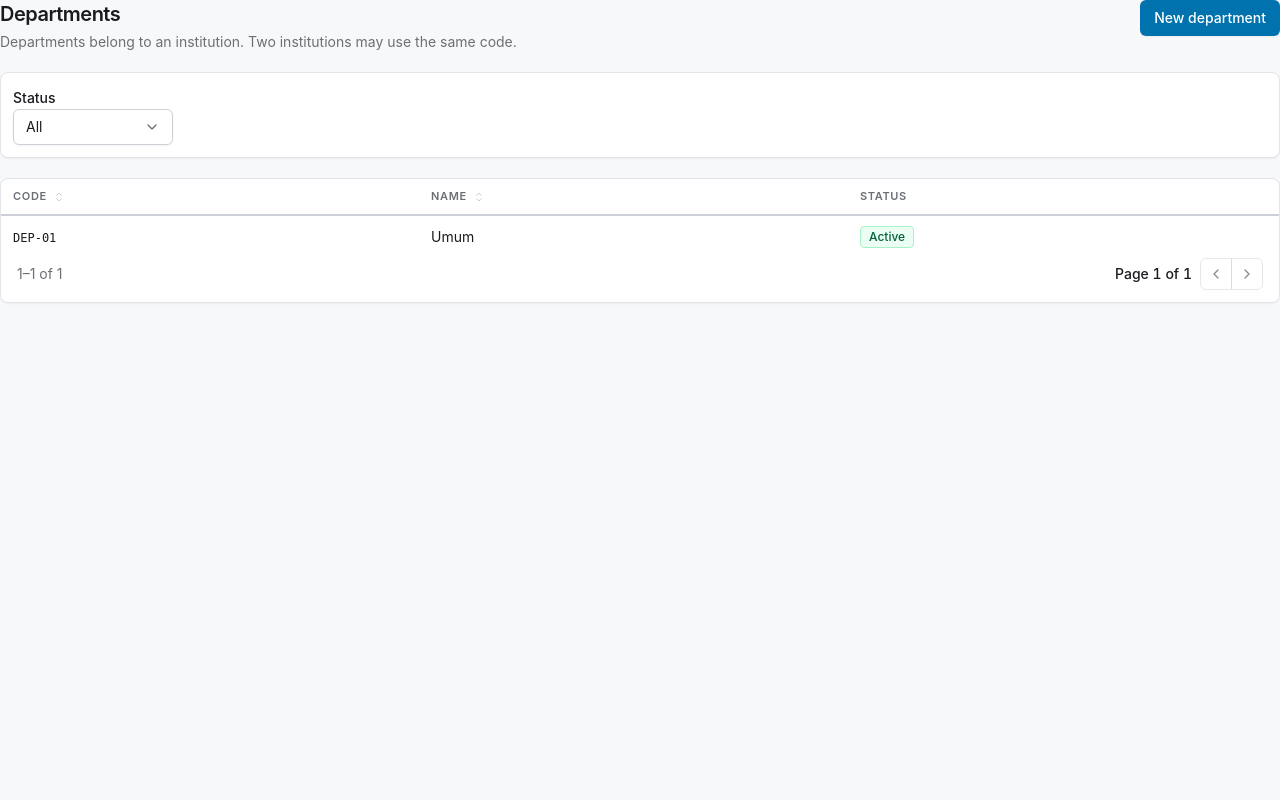
DepartmentsPage › choosing the institution › refuses to submit when a system-wide caller has not chosen one
Expected: the text "Umum" is shown, [419, 215, 848, 258]
Click the button "New department" at point(1210, 18), box [1140, 0, 1279, 36]
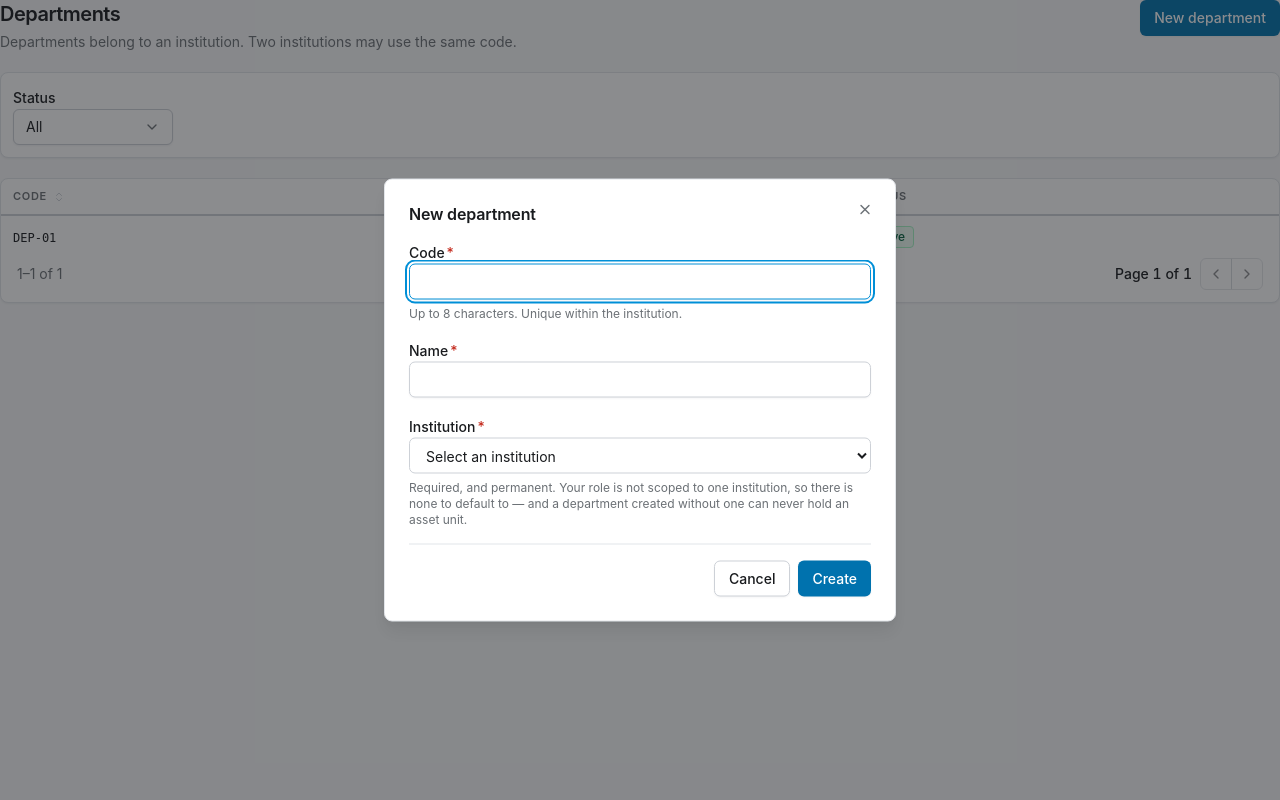
Type "DEP-03" into the field labelled "Code*" at point(640, 282), box [409, 264, 871, 300]
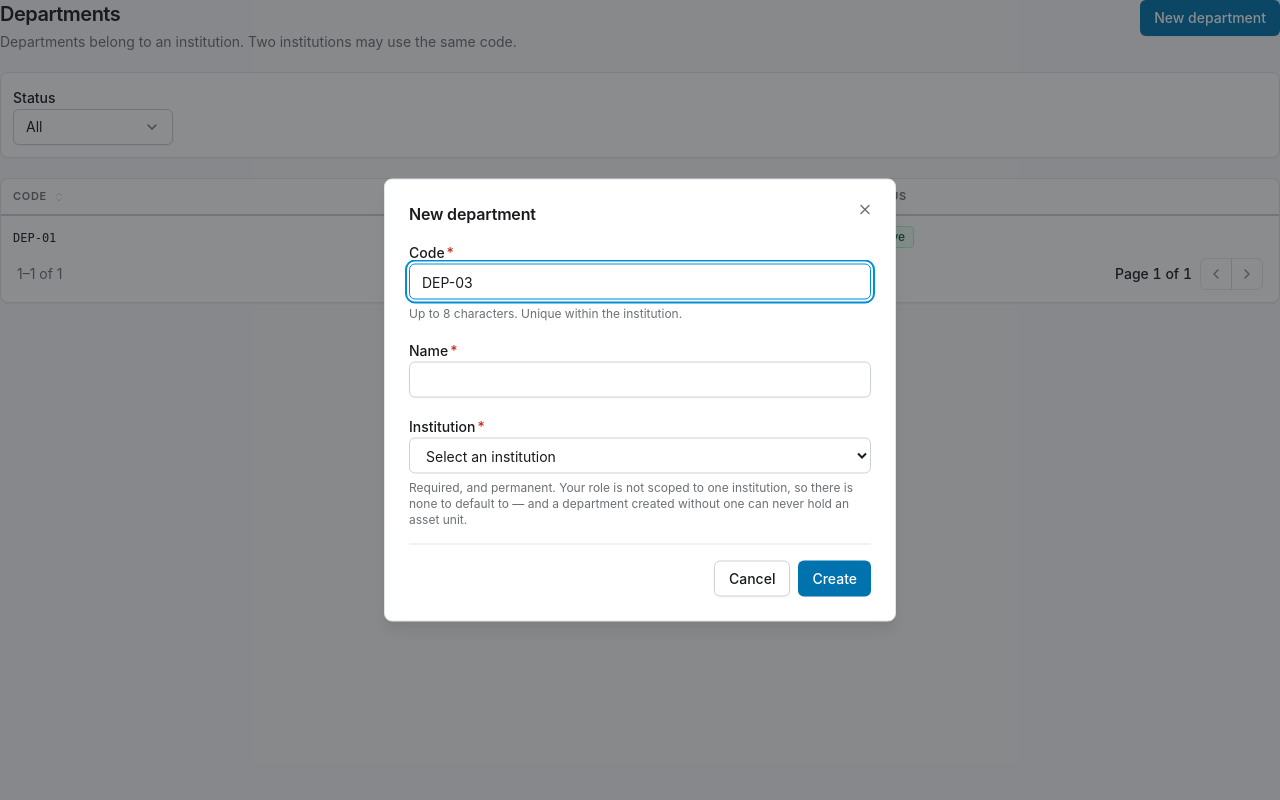
Type "Umum 2" into the field labelled "Name*" at point(640, 380), box [409, 362, 871, 398]
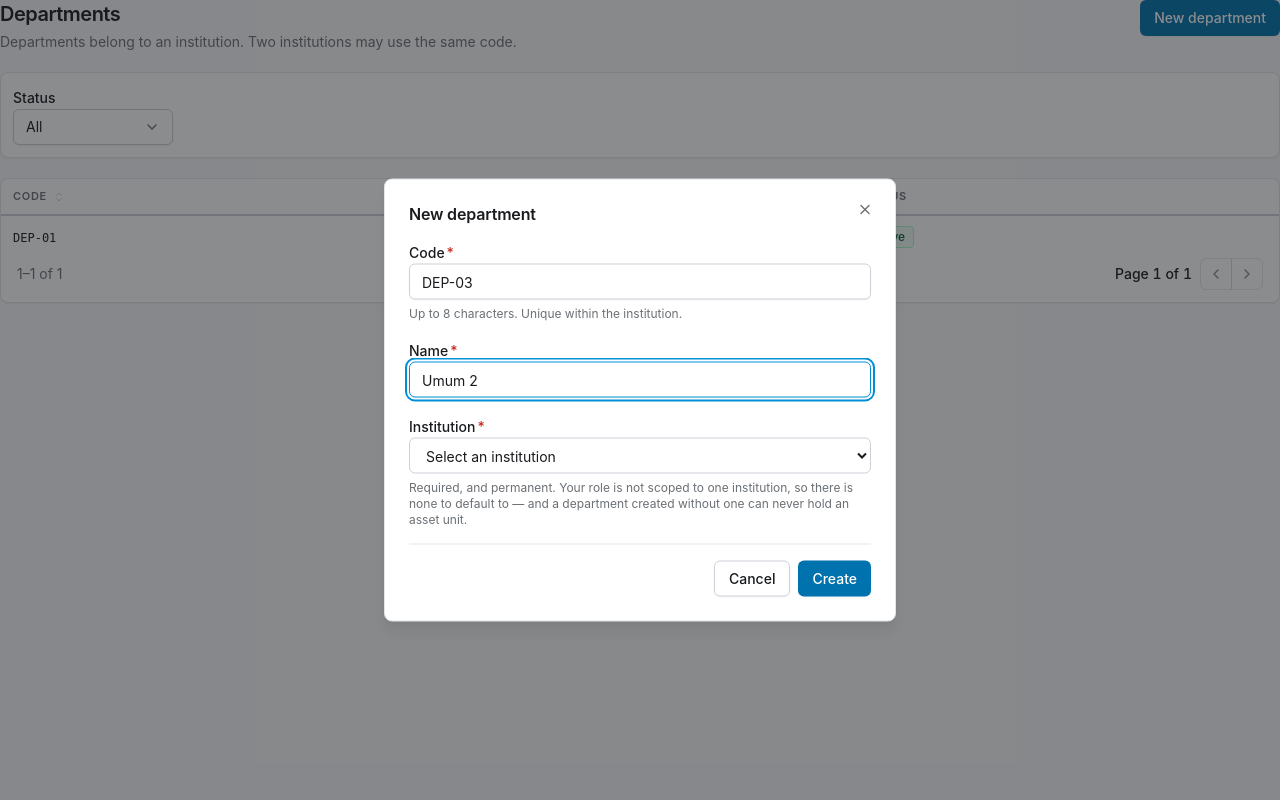
Click the button "Create" at point(835, 578), box [798, 560, 871, 596]
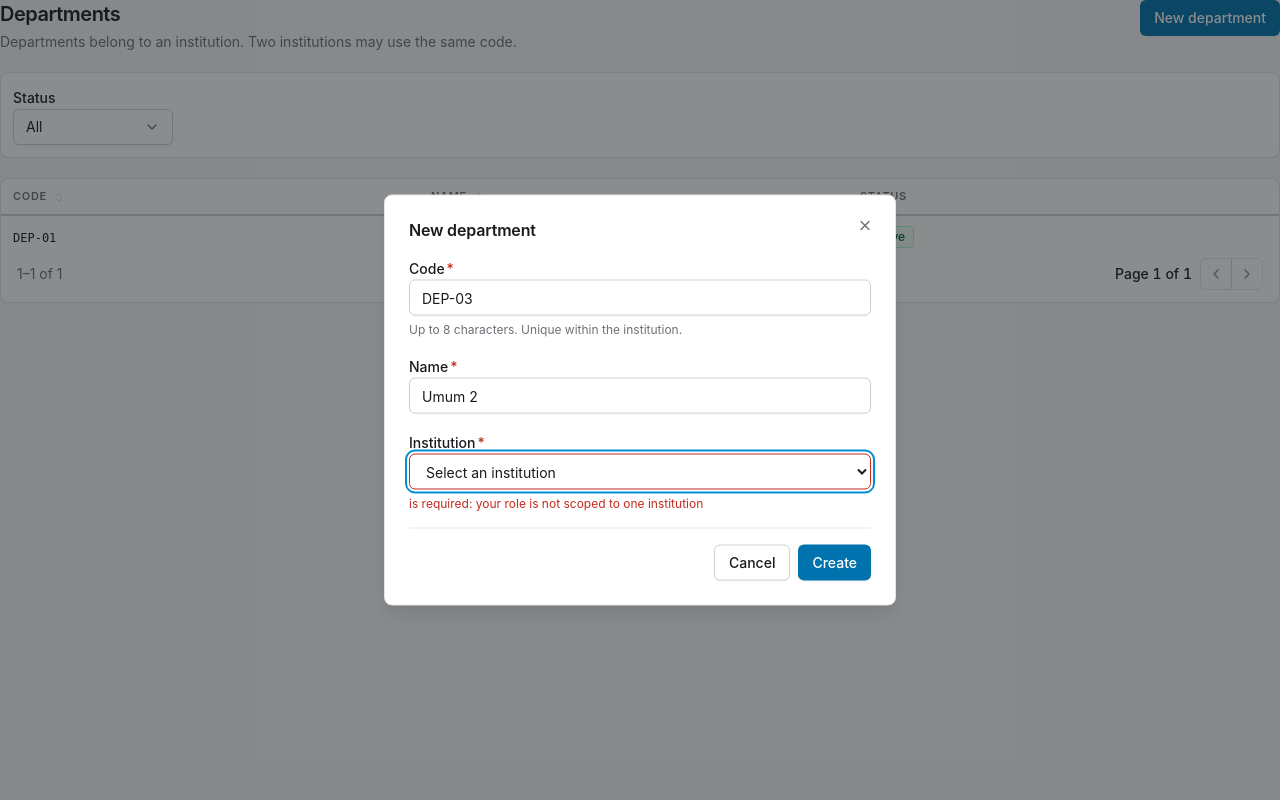
Expected: the text "is required: your role is not scoped to one institution" is shown, [409, 496, 703, 510]
